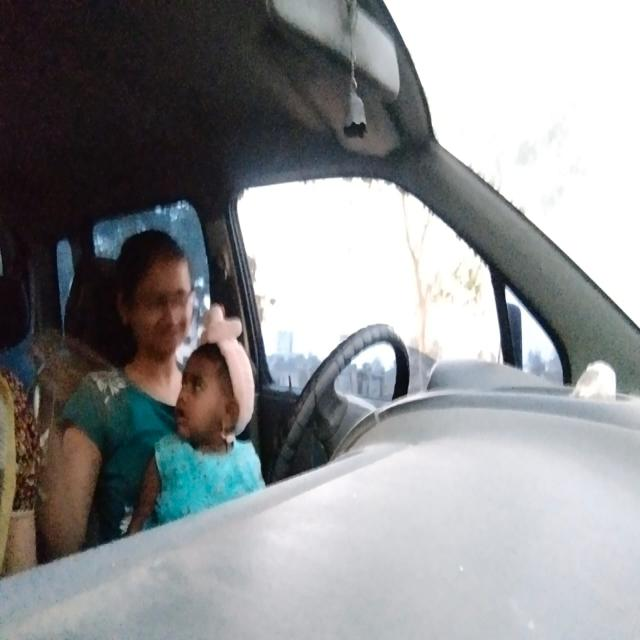child: (162, 340, 250, 458)
person: (108, 227, 200, 372)
